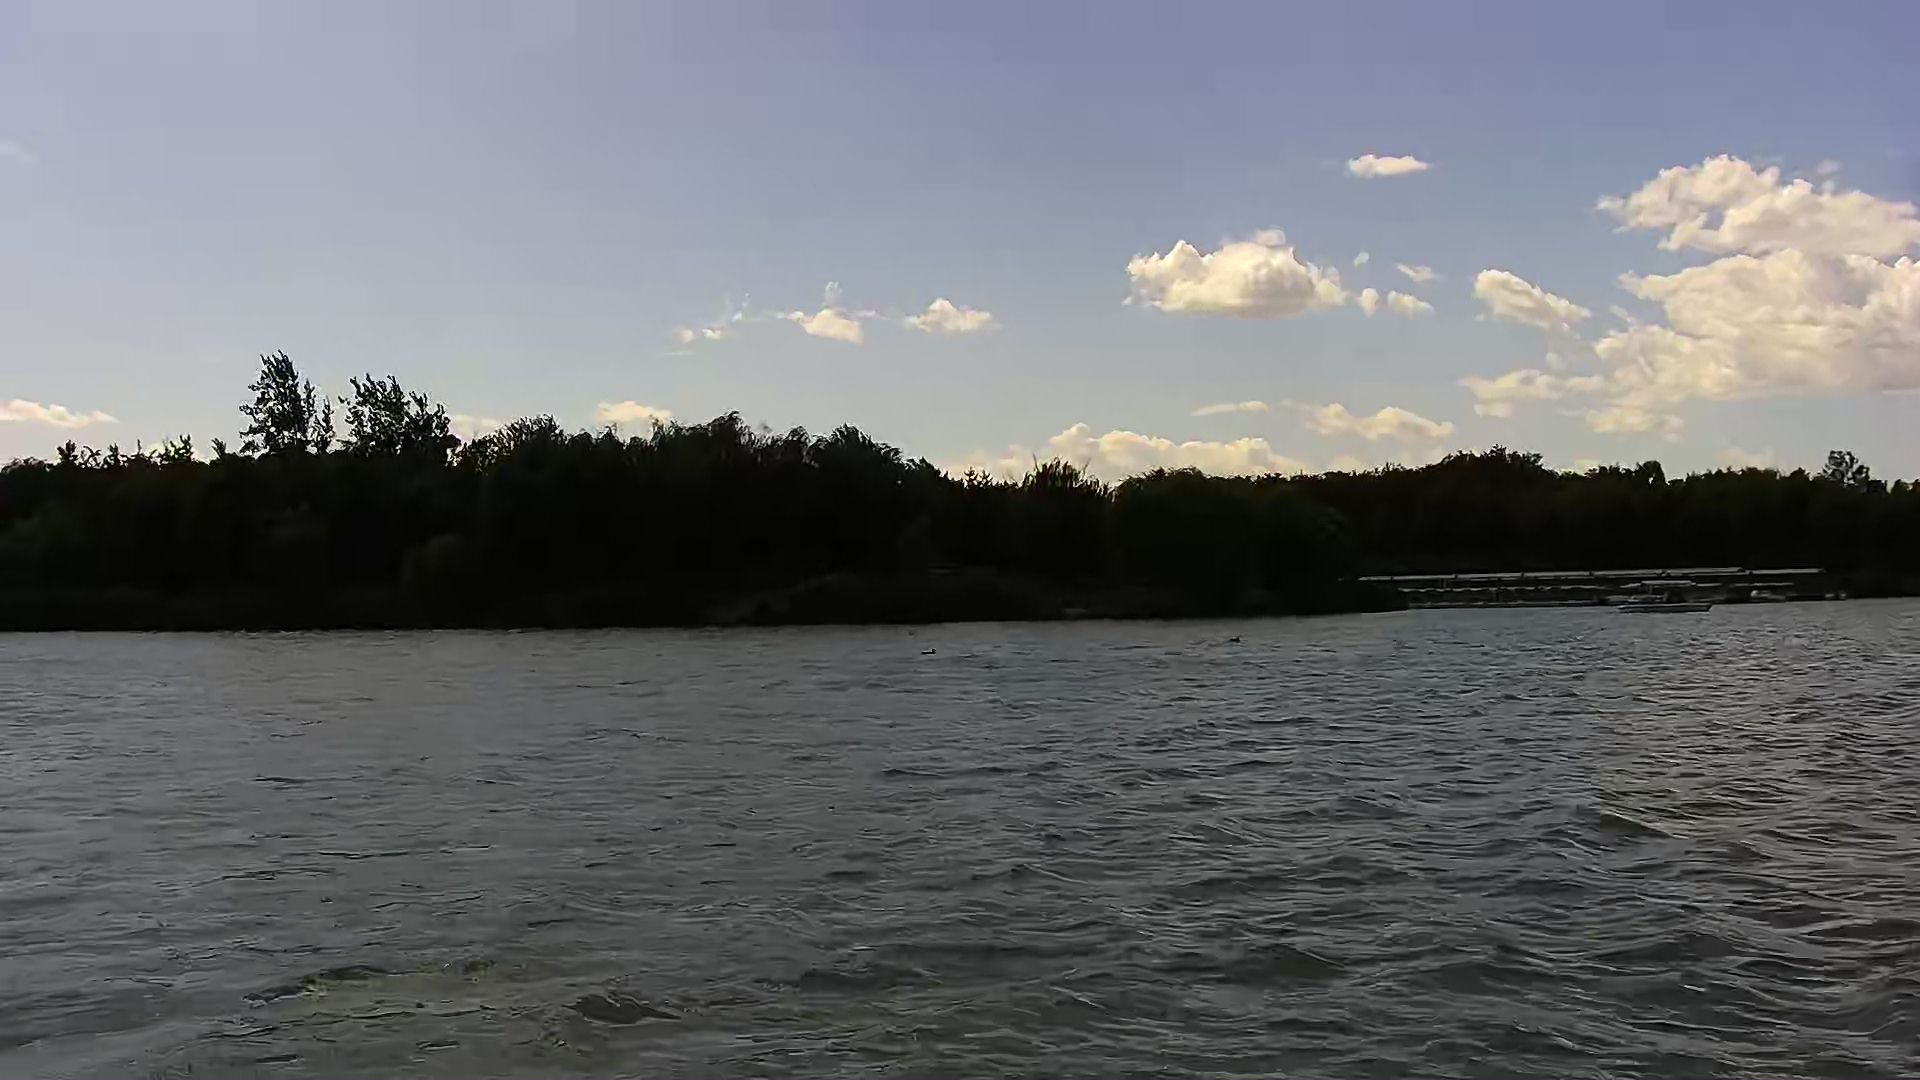boat: (1611, 579, 1724, 621)
harbor: (1354, 568, 1824, 611)
